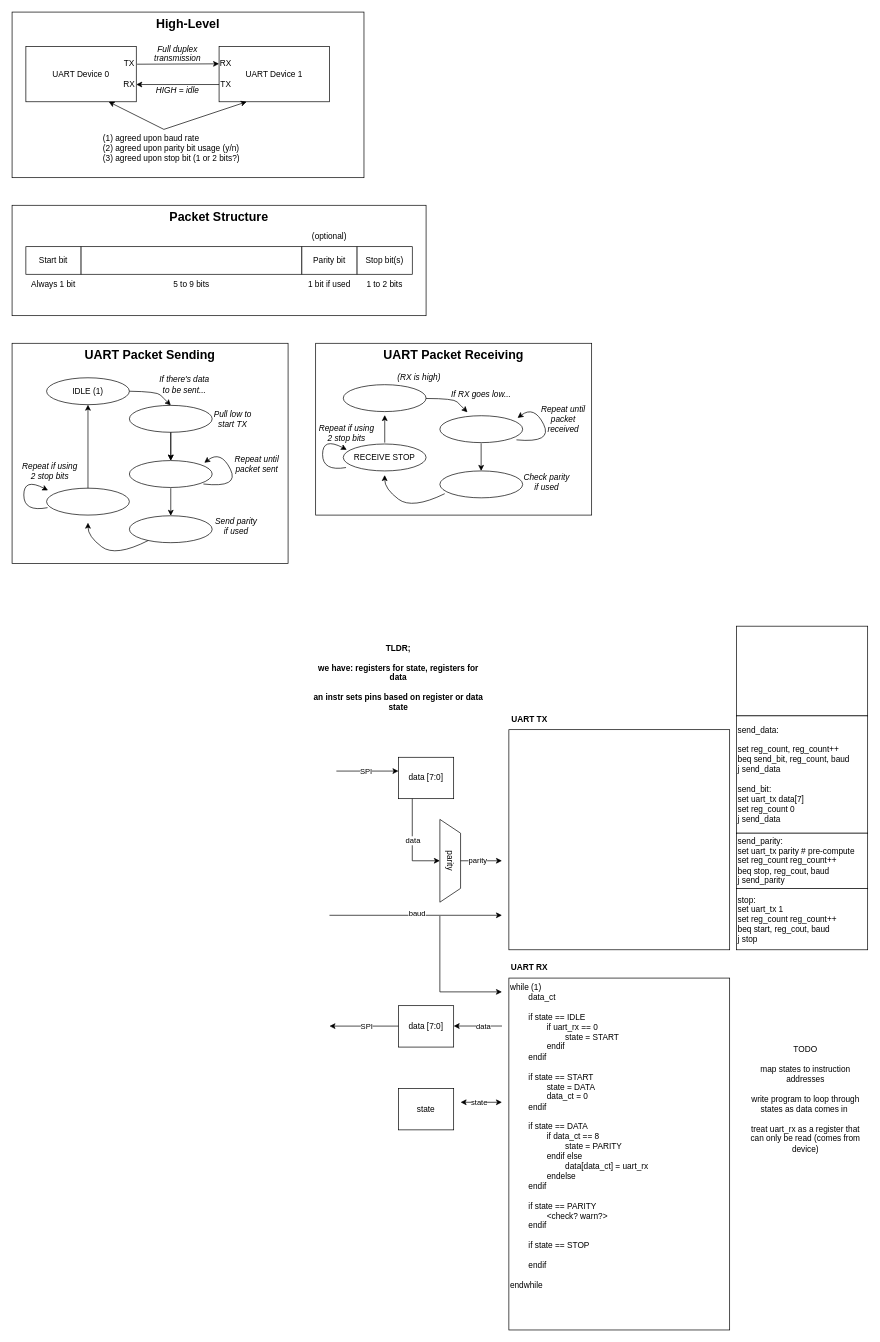
The diagram is 880 pixels wide and 1342 high, and some of its shapes have lost their labels. The shapes that lost their labels are listed below. From the top down, each one's centre as x and y in pixels, then its label:
the point at 191,260: Data bits
the point at 170,418: START (0)
the point at 384,398: IDLE
the point at 481,429: RECEIVE DATA
the point at 170,473: DATA (x)
the point at 481,484: CHECK PARITY
the point at 87,501: STOP (1)
the point at 170,529: PARITY (x)
the point at 802,670: init: beq start, data_ready, 1 j init start: set uart_tx 0 set reg_count 0
the point at 619,839: while (data) send_start() send_data() send_parity() send_stop() endwhile
